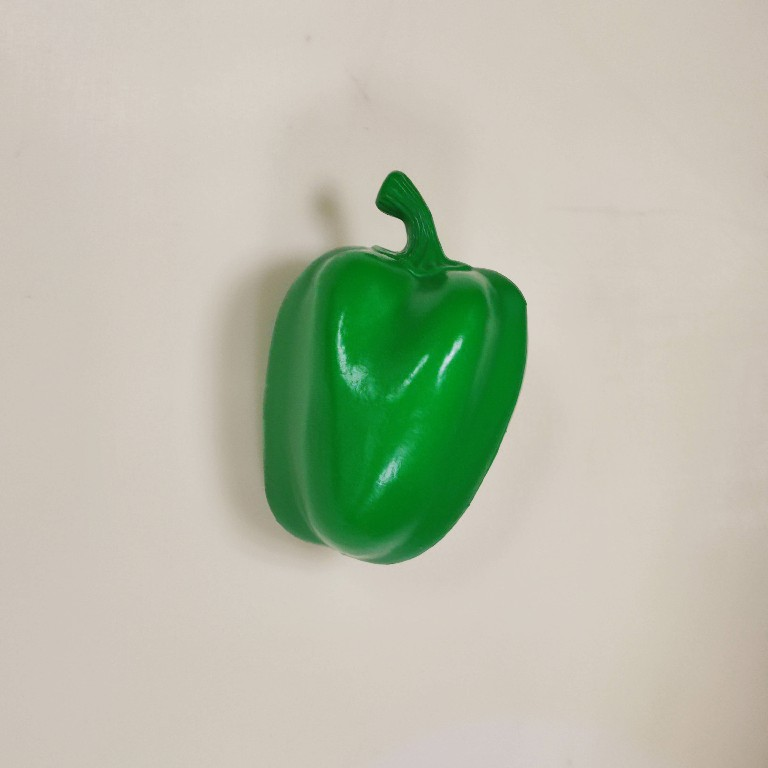fruit_pepper: (259, 165, 533, 570)
